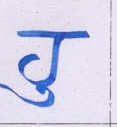u_matra: (0, 81, 59, 106)
